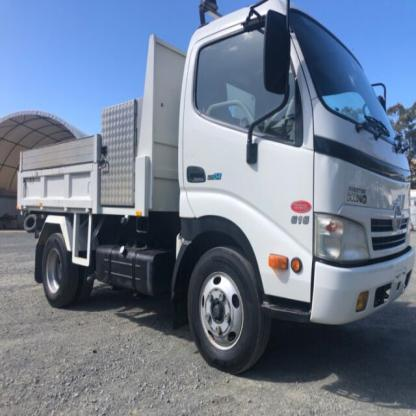dump_truck: (11, 2, 415, 369)
